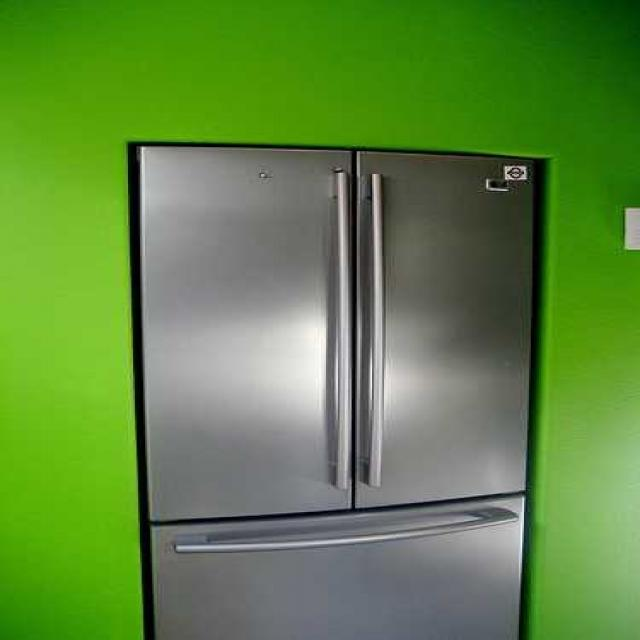refrigerator: (139, 142, 543, 640)
